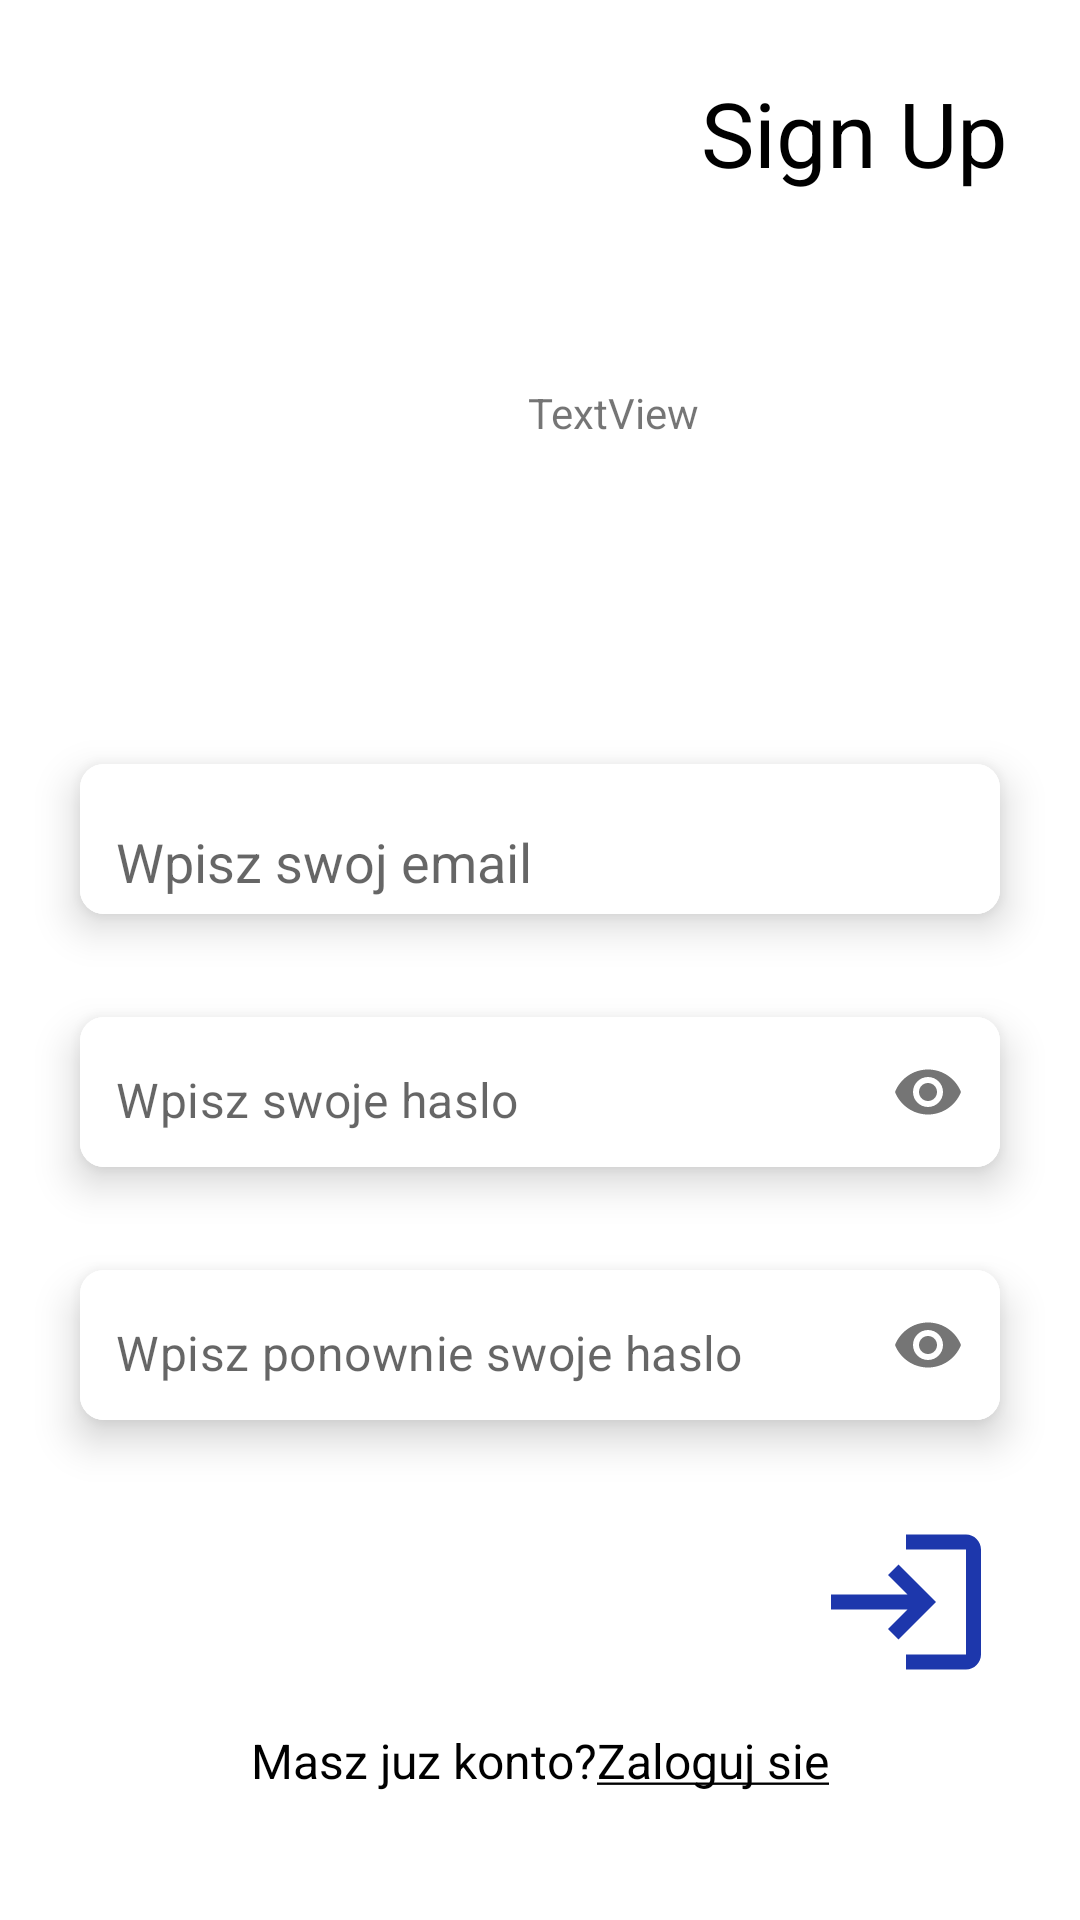

Where icons sit on this 1080×1920 app screen, as bbox=[x1, y1, x2, y2]:
login arrow: bbox=[831, 1534, 981, 1670]
